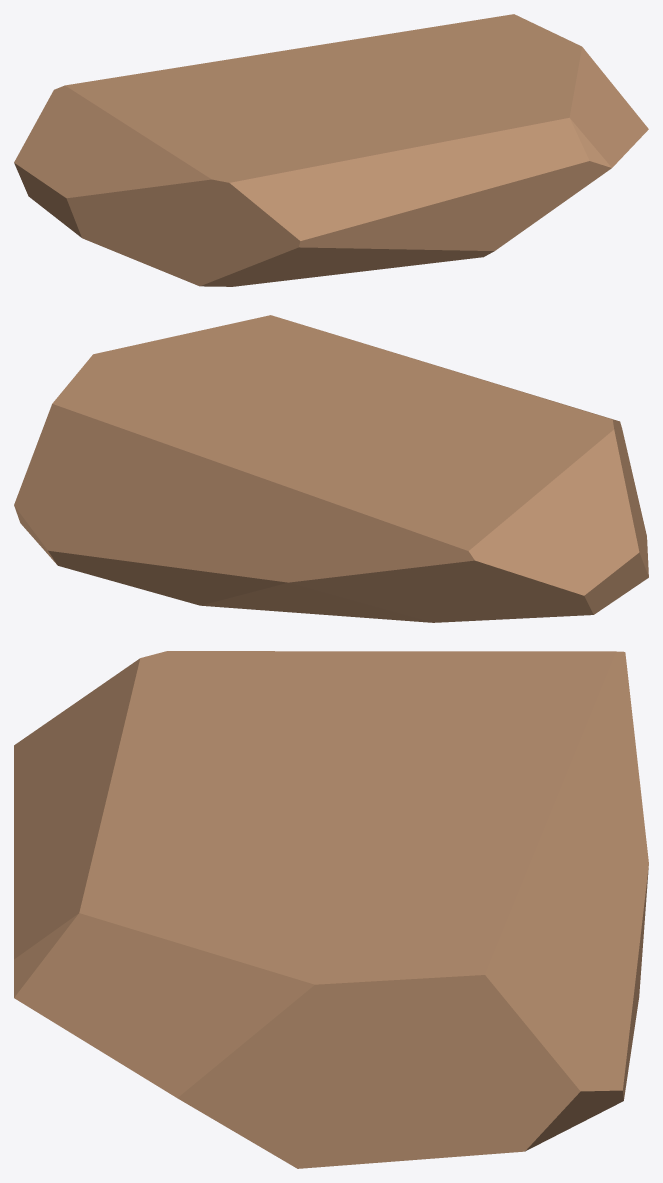
Rendered from Rock_Flat_m_08.fbx.
The picture shows the model from 3 angles, top to bottom: view 1: azimuth 30°, elevation 25°; view 2: azimuth 150°, elevation 25°; view 3: azimuth 270°, elevation 25°; orthographic projection. The views are drawn at different scales.
Visible parts, largest first — view 1: Rock_Flat_m_08; view 2: Rock_Flat_m_08; view 3: Rock_Flat_m_08.
Boxes of the visible parts, <box> form: Rock_Flat_m_08: <box>14,14,648,286</box>; Rock_Flat_m_08: <box>14,315,648,622</box>; Rock_Flat_m_08: <box>14,651,648,1168</box>.
Size of the model in its own units: 143 by 27.25 by 91.73.
